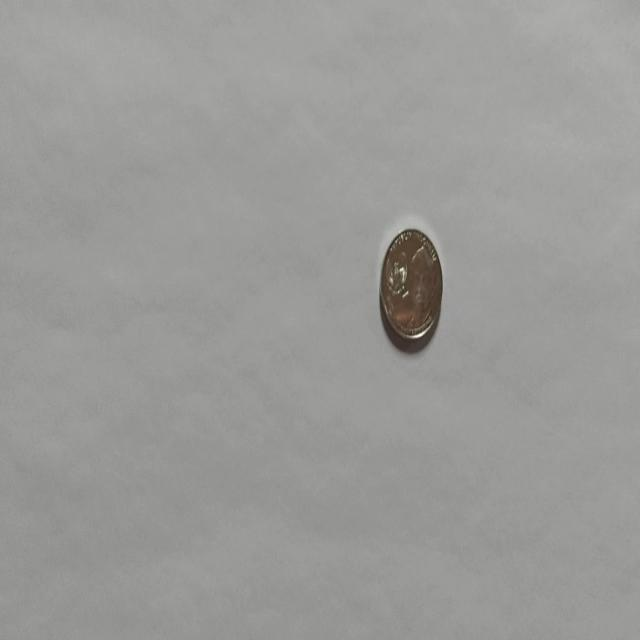dua ratus rupiah: (378, 225, 443, 344)
